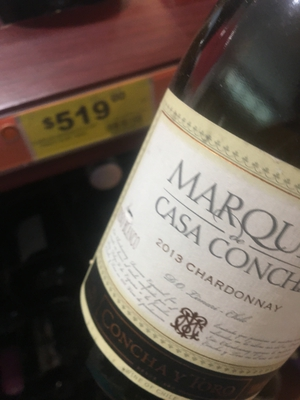marques de casa concha chardonnay: (79, 35, 300, 400)
